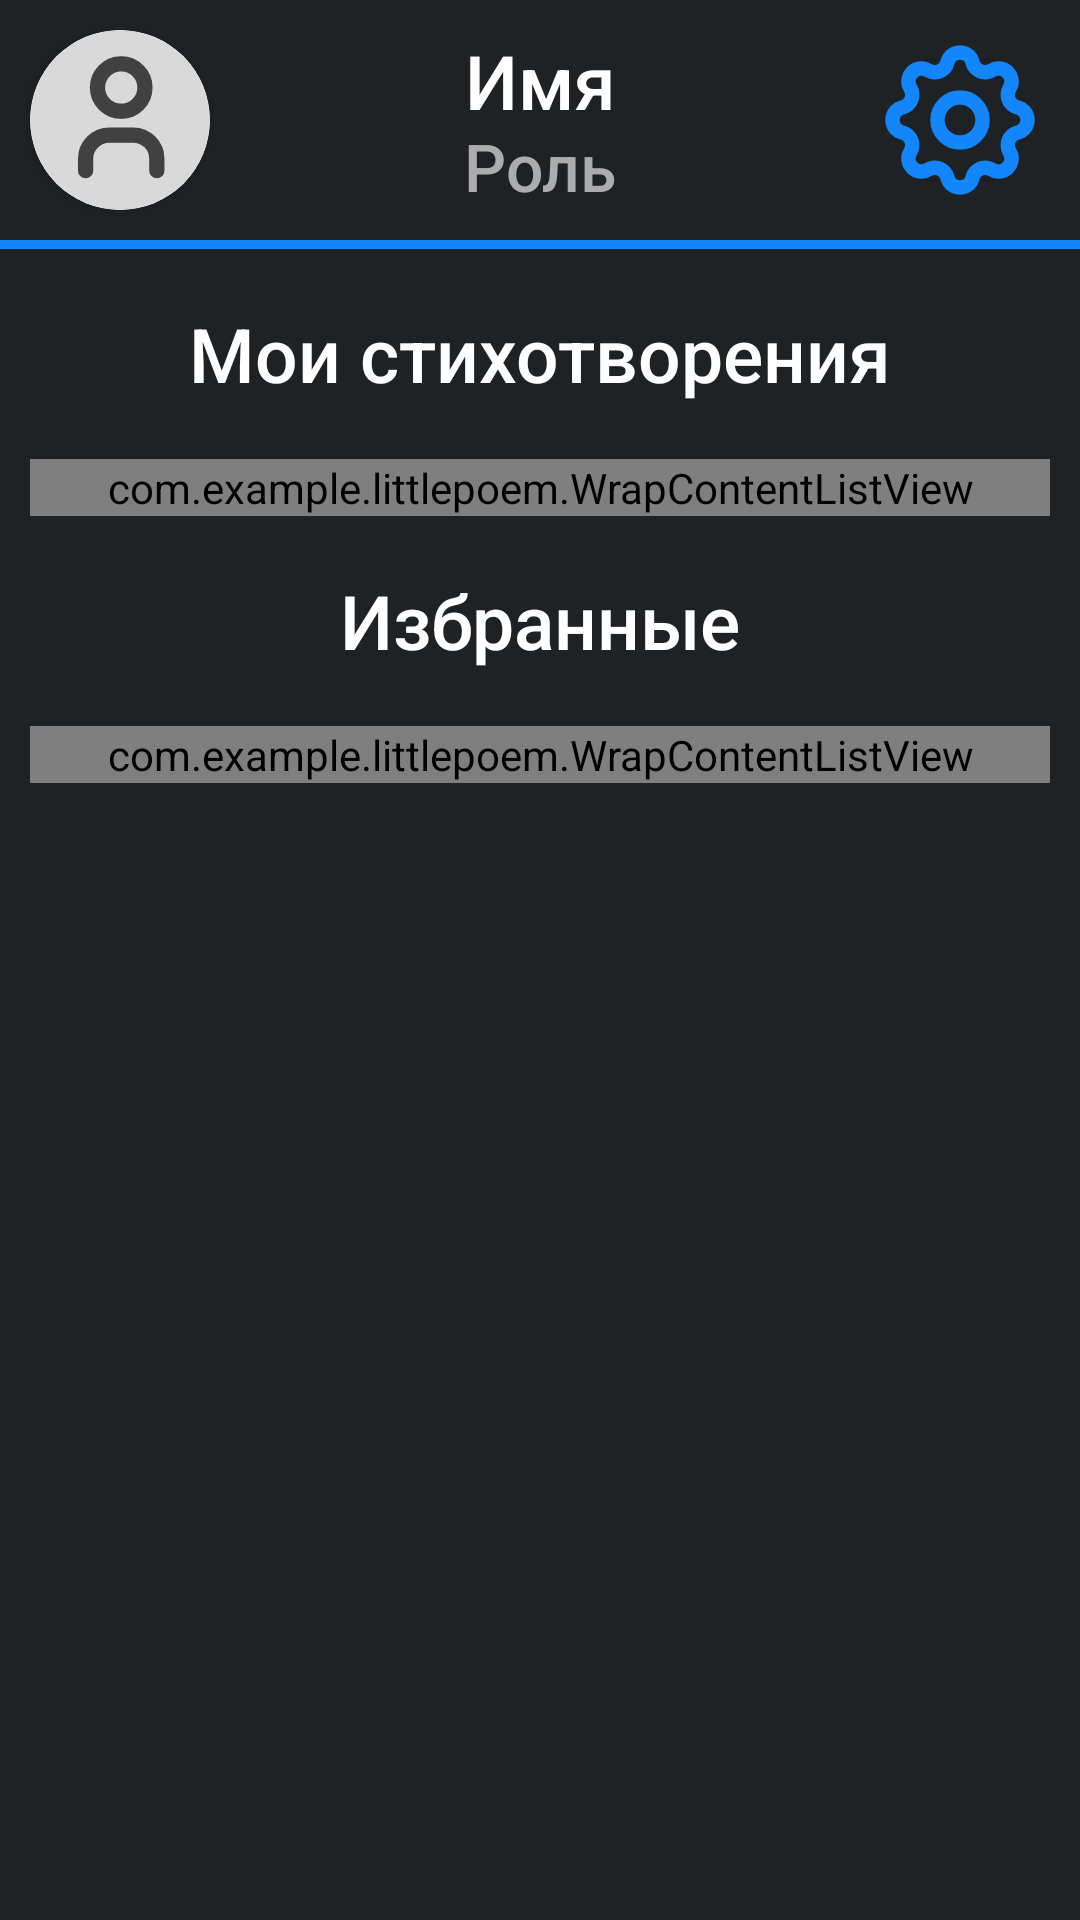

Where icons sit on this 1080px×1920px app screen, as detection(x1, y1, x2, y2):
profile empty: detection(30, 30, 210, 210)
settings: detection(885, 45, 1035, 195)
